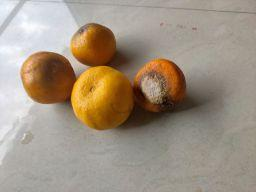orange: (71, 65, 135, 131), (20, 50, 77, 105), (133, 58, 187, 113), (69, 22, 117, 67)
